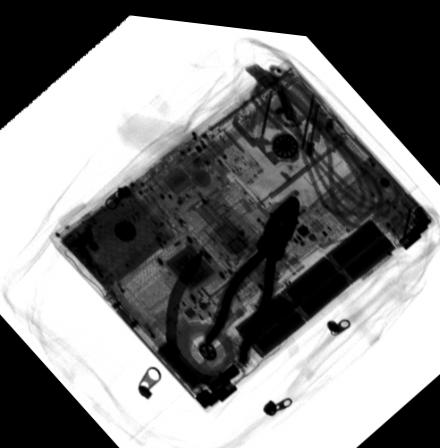Pliers: (201, 185, 299, 359)
